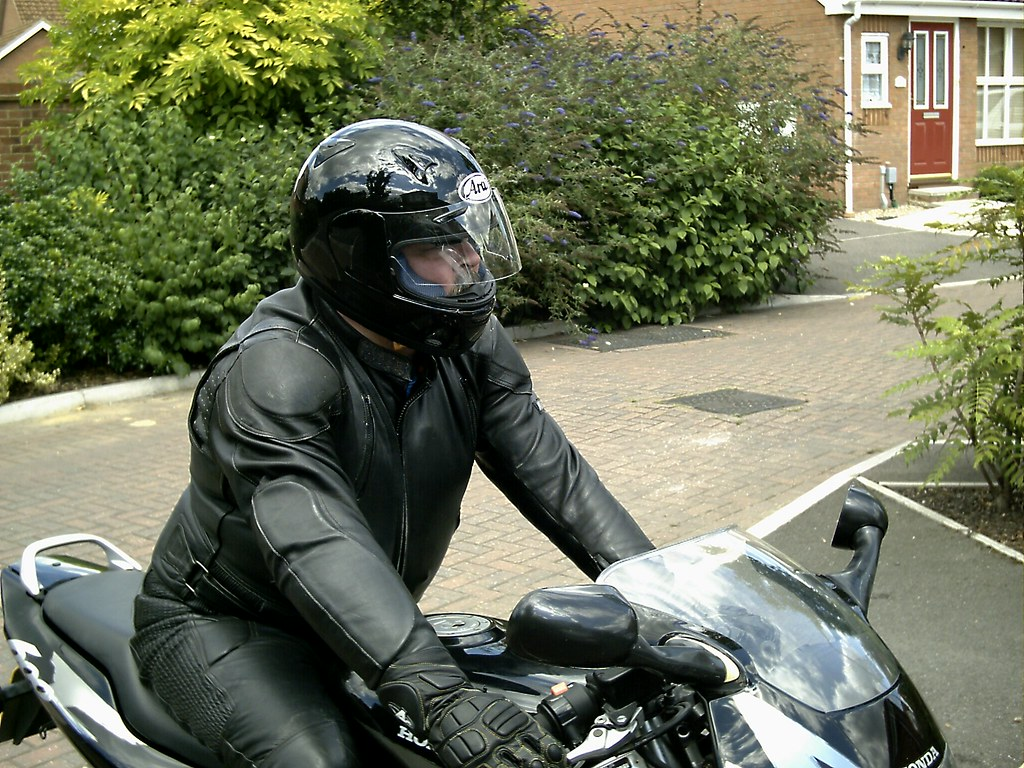helmet: (293, 124, 507, 348)
